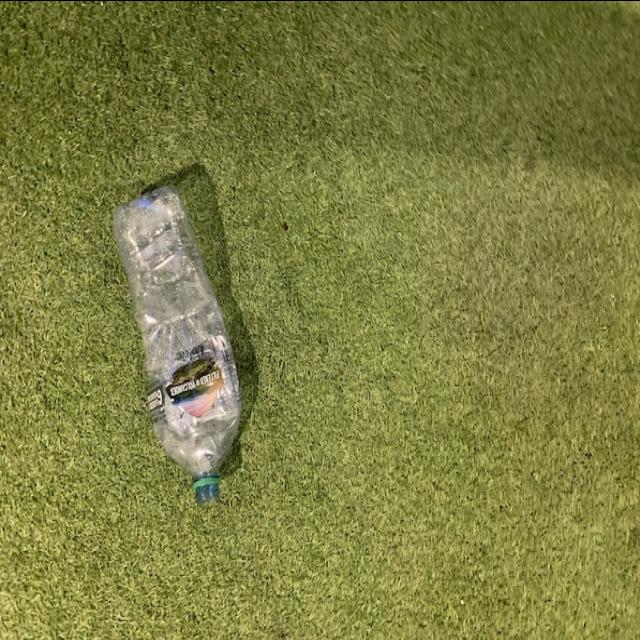PET: (110, 174, 246, 508)
